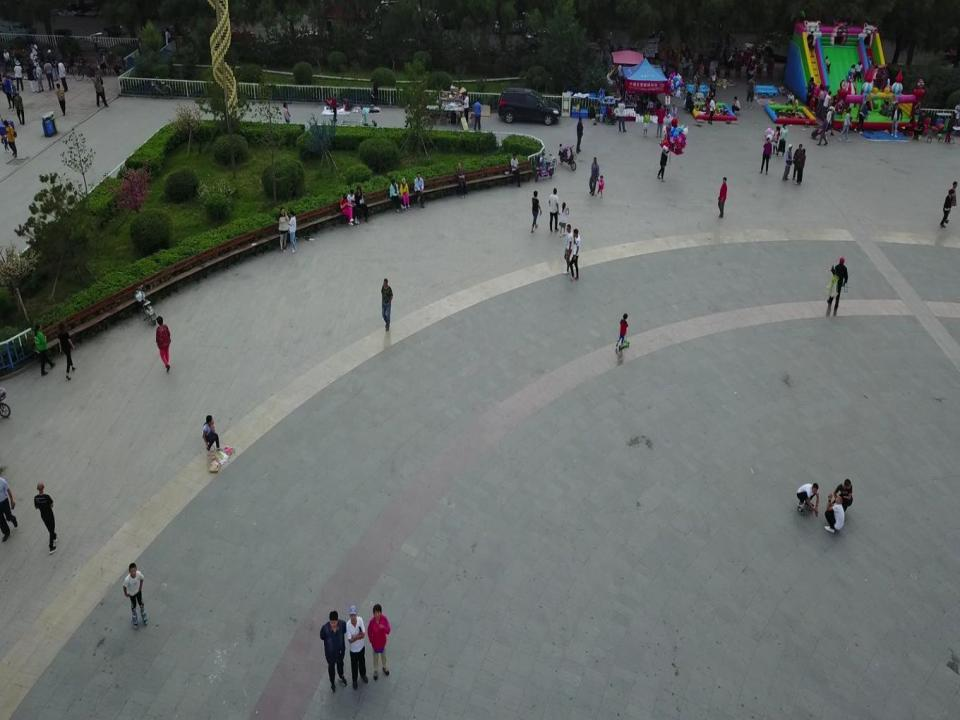car: (497, 88, 561, 125)
